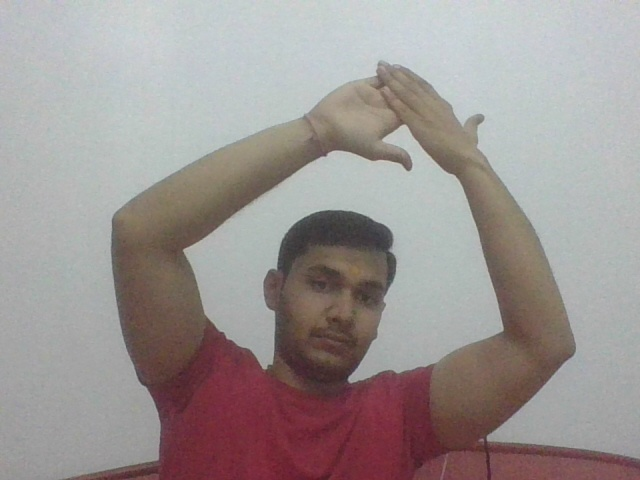H: (317, 57, 491, 181)
